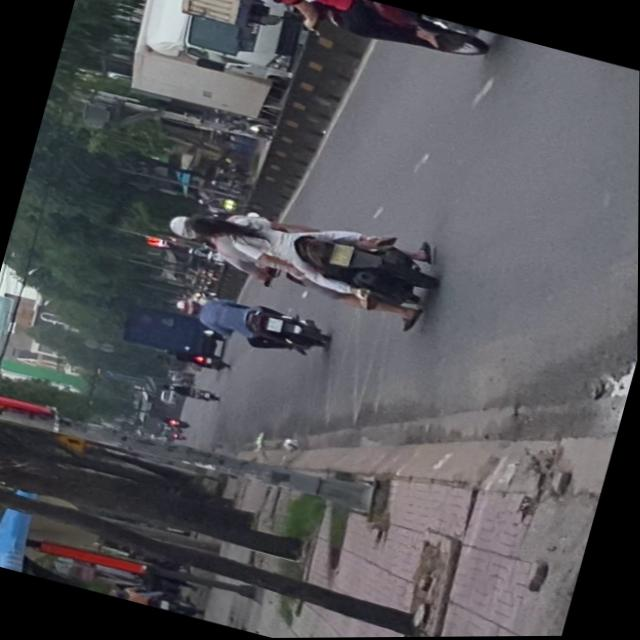helmet: (166, 209, 199, 238)
licenseplate: (155, 176, 448, 332)
motorcyclist: (185, 210, 232, 243)
nohelmet: (329, 241, 353, 266)
